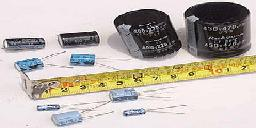Electrolytic Capacitor: (185, 1, 256, 55), (111, 9, 185, 58), (69, 53, 133, 73), (55, 25, 103, 49), (107, 86, 185, 100), (122, 104, 193, 118), (50, 111, 106, 127), (3, 35, 49, 51), (15, 56, 45, 73)
